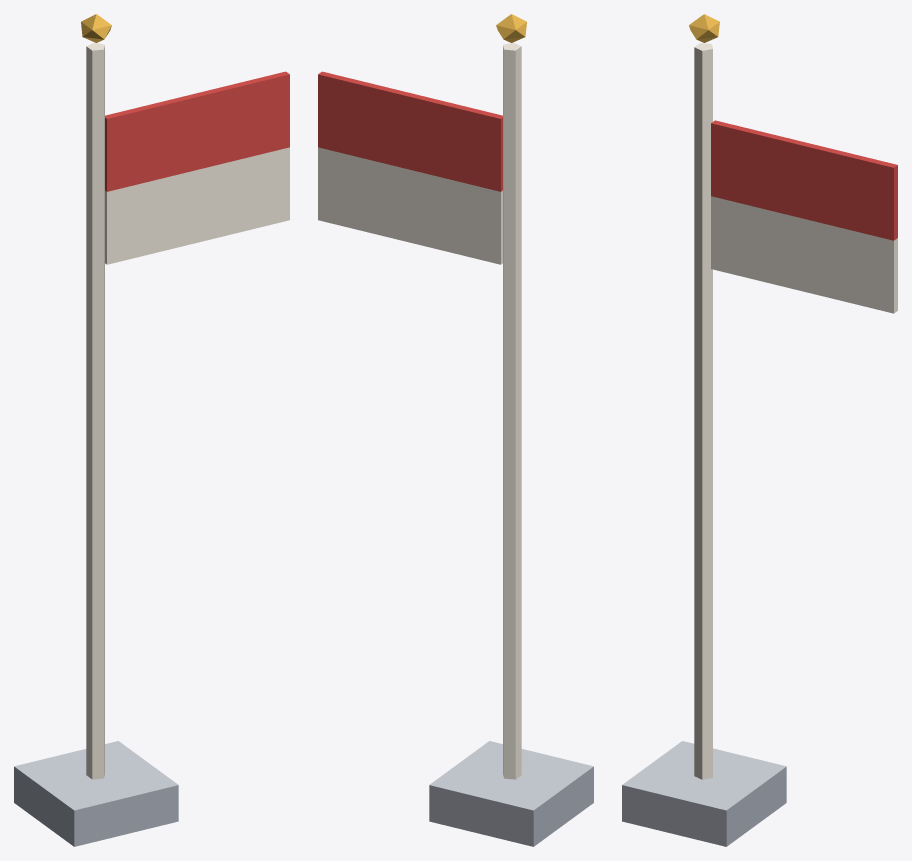
File: prop_flagpole.glb
The picture shows the model from 3 angles, left to right: view 1: azimuth 30°, elevation 25°; view 2: azimuth 150°, elevation 25°; view 3: azimuth 330°, elevation 25°; orthographic projection.
Parts seen in each view (by area): view 1: prop_flagpole; view 2: prop_flagpole; view 3: prop_flagpole.
Part boxes in pixels (bbox=[...]): prop_flagpole: bbox=[14, 14, 289, 846]; prop_flagpole: bbox=[318, 14, 593, 846]; prop_flagpole: bbox=[622, 14, 897, 846].
Bounding box in the file's own units: 0.14 × 0.438 × 0.06.
